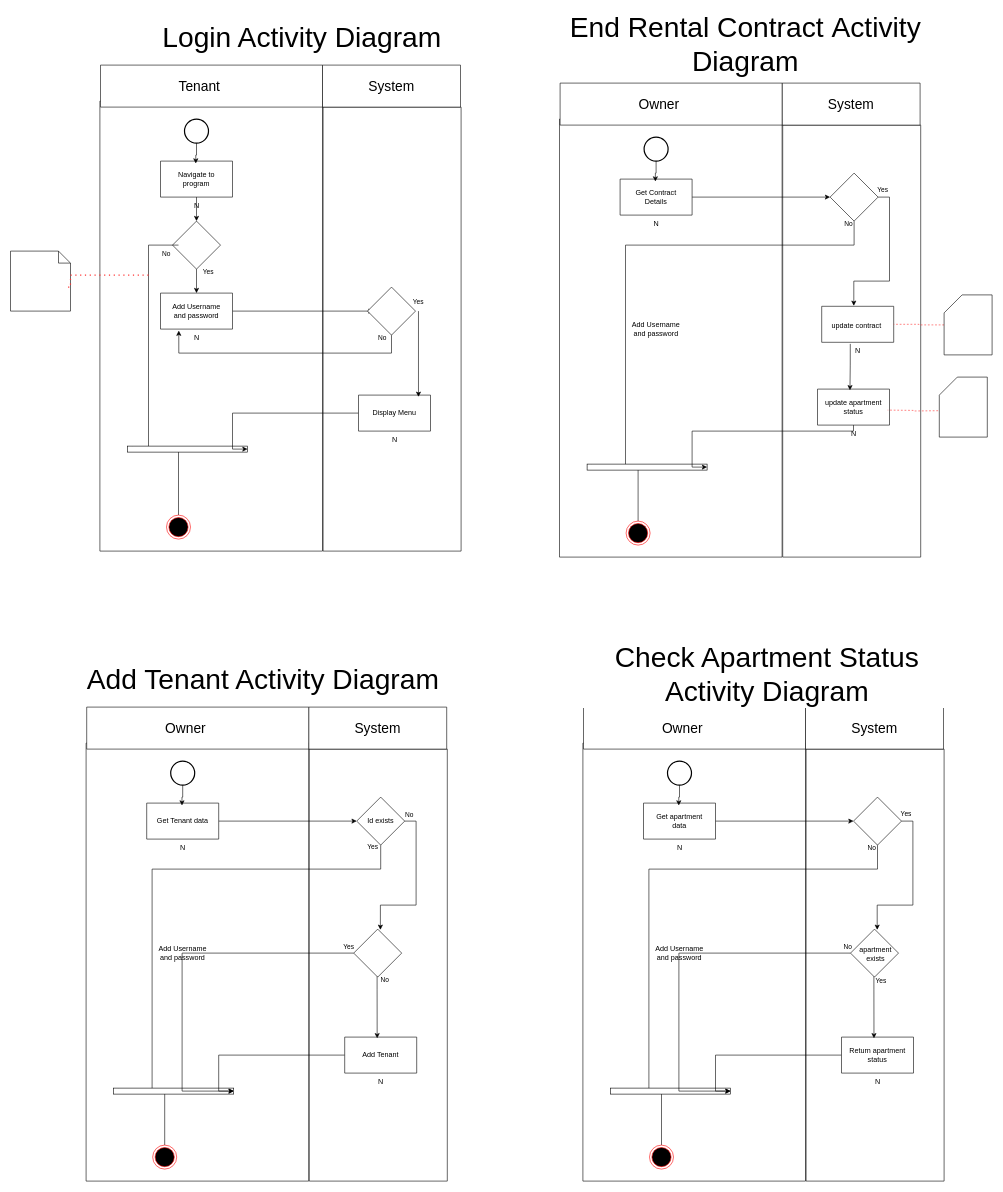
Image size: 1003x1192. Some labels were removed from this diagram. Here are the shapes that lost their labels. From the top down, the centre of each, then its label:
At (x=854, y=196): "Contract is active".
At (x=196, y=244): "Have account".
At (x=40, y=280): "Tenant can be only added by the owner".
At (x=391, y=310): "Valid input".
At (x=968, y=324): "set not active".
At (x=963, y=406): "stattus = Vacant".
At (x=877, y=820): "building exists".
At (x=377, y=952): "username exists".
